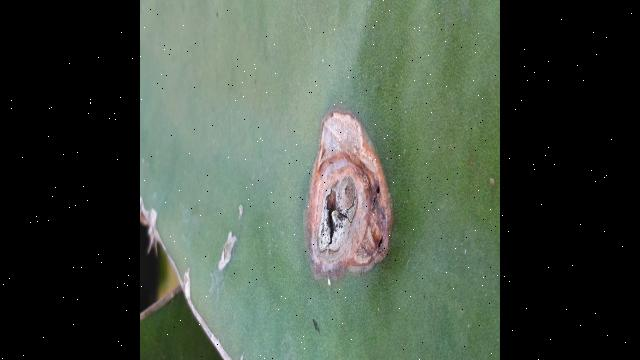stemcanker: (198, 35, 464, 326)
